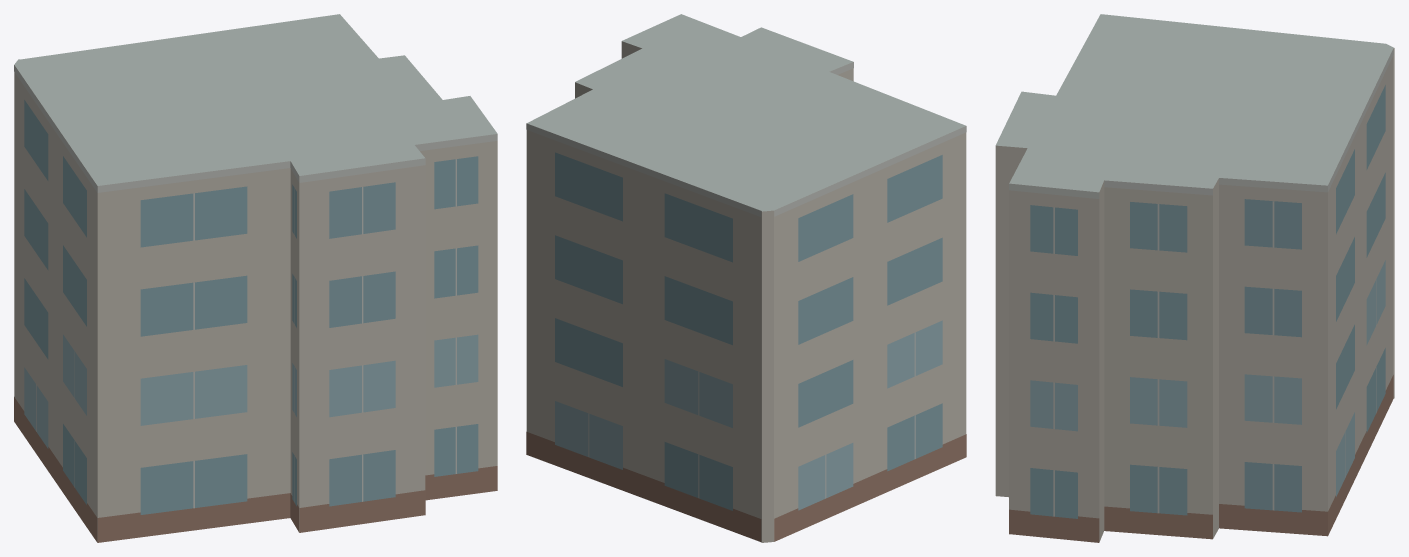
Rendered from survey-upis-32619599.glb.
The picture shows the model from 3 angles, left to right: view 1: azimuth 30°, elevation 25°; view 2: azimuth 150°, elevation 25°; view 3: azimuth 270°, elevation 25°; orthographic projection. The views are drawn at different scales.
Visible parts, largest first — view 1: survey-upis-32619599.tmp; view 2: survey-upis-32619599.tmp; view 3: survey-upis-32619599.tmp.
Boxes of the visible parts, bbox=[...] form: survey-upis-32619599.tmp: bbox=[14, 14, 497, 542]; survey-upis-32619599.tmp: bbox=[526, 14, 966, 542]; survey-upis-32619599.tmp: bbox=[995, 14, 1394, 542].
Bounding box in the file's own units: 13.76 × 12.6 × 13.01.
